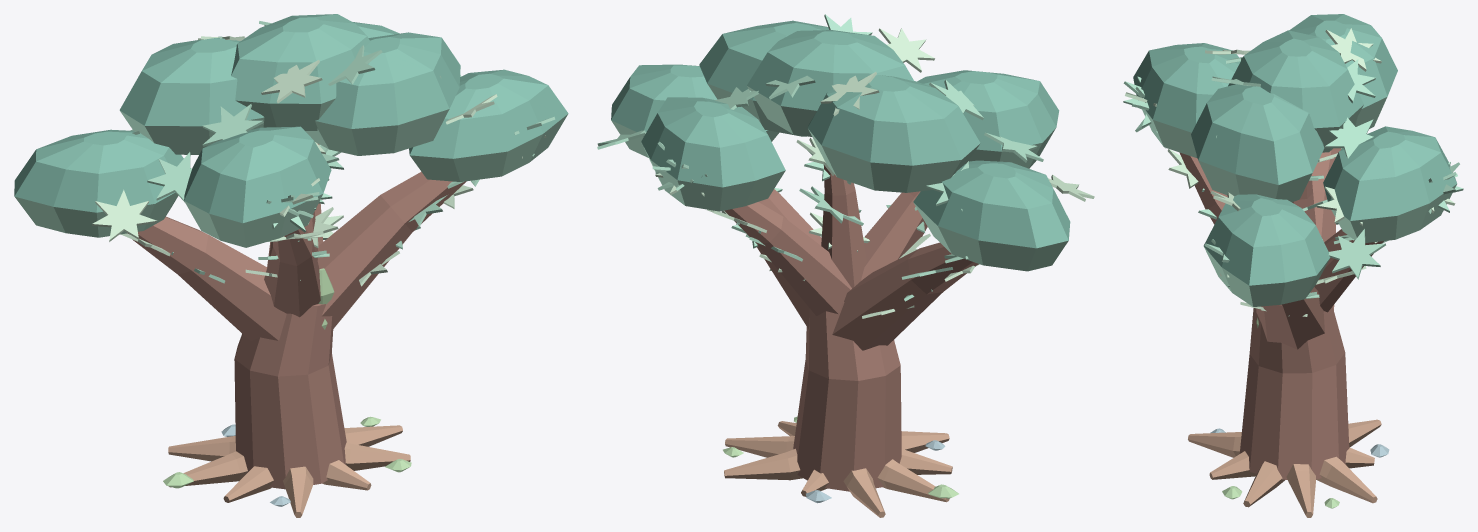
File: lagoon_tree_bigleaf_maple.glb
3 views of the same model, side by side, from view 1: azimuth 30°, elevation 25°; view 2: azimuth 150°, elevation 25°; view 3: azimuth 270°, elevation 25° (orthographic). The views are drawn at different scales.
Visible parts, largest first — view 1: lagoon_tree_bigleaf_maple.001; view 2: lagoon_tree_bigleaf_maple.001; view 3: lagoon_tree_bigleaf_maple.001.
Boxes of the visible parts, box(x1,y1,x2,y2) form: lagoon_tree_bigleaf_maple.001: box(14, 14, 568, 517); lagoon_tree_bigleaf_maple.001: box(597, 14, 1094, 517); lagoon_tree_bigleaf_maple.001: box(1123, 14, 1463, 517).
Bounding box in the file's own units: 9.6 × 8.02 × 5.83.
